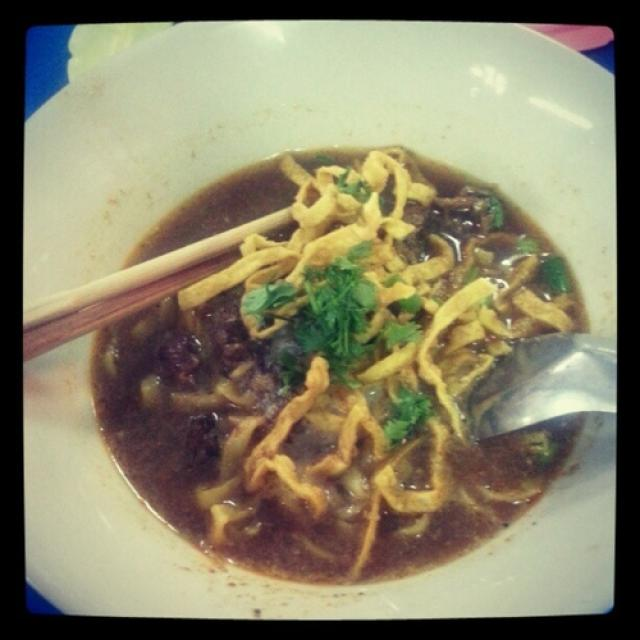面条主食: (45, 64, 609, 599)
